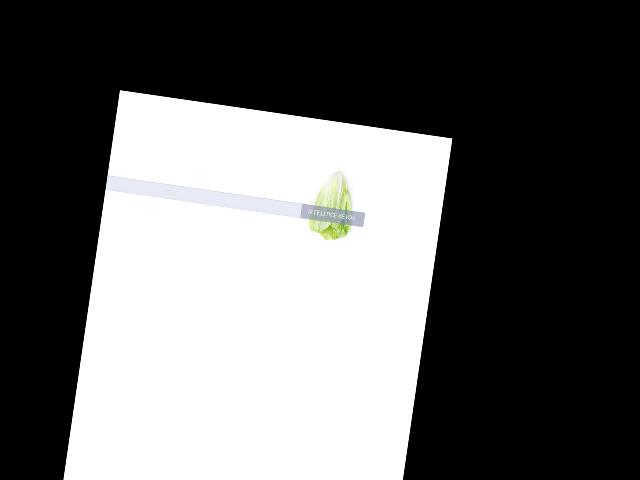lettuce: (304, 162, 363, 243)
